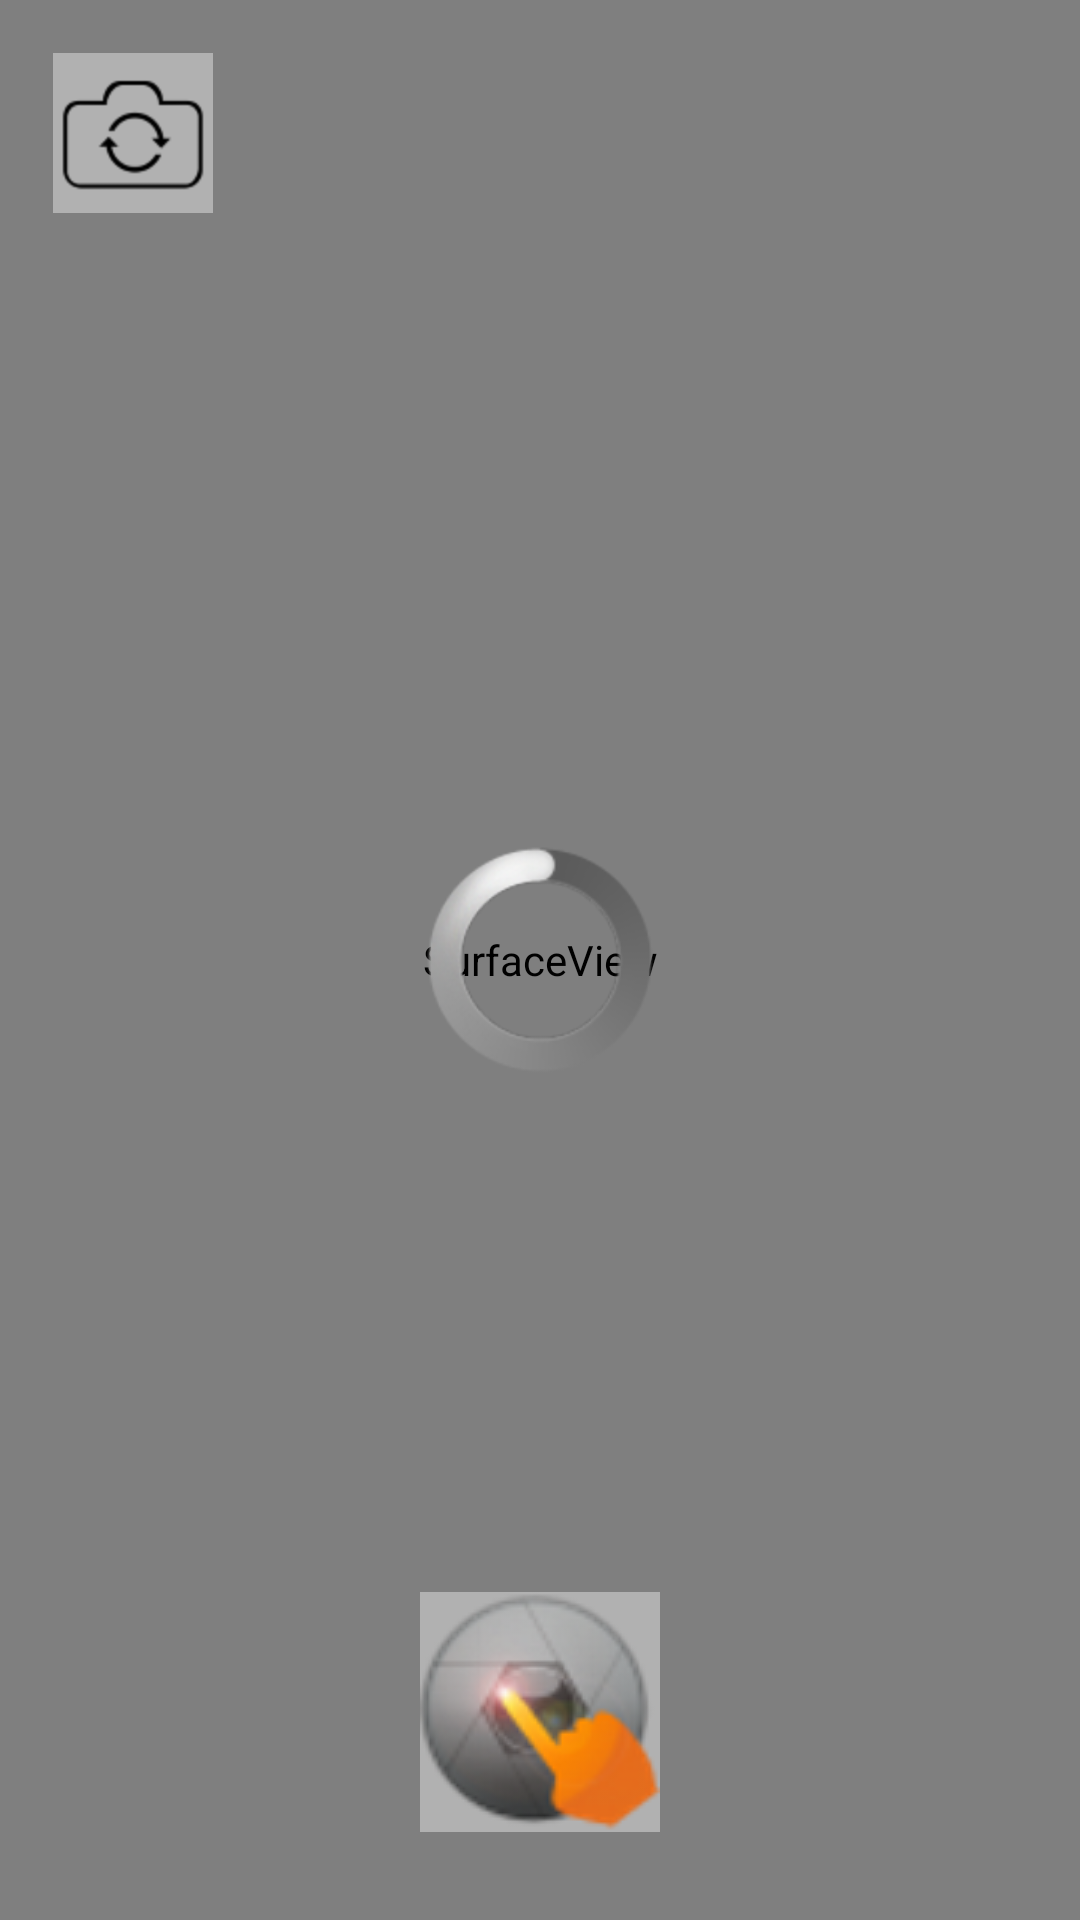

Icons on this 1080px x 1920px Android screen, each with its box as [x1=x1, y1=y1, x2=x2, y2=y2]:
click: [x1=420, y1=1592, x2=660, y2=1832]
selfie toggle: [x1=53, y1=53, x2=213, y2=213]
